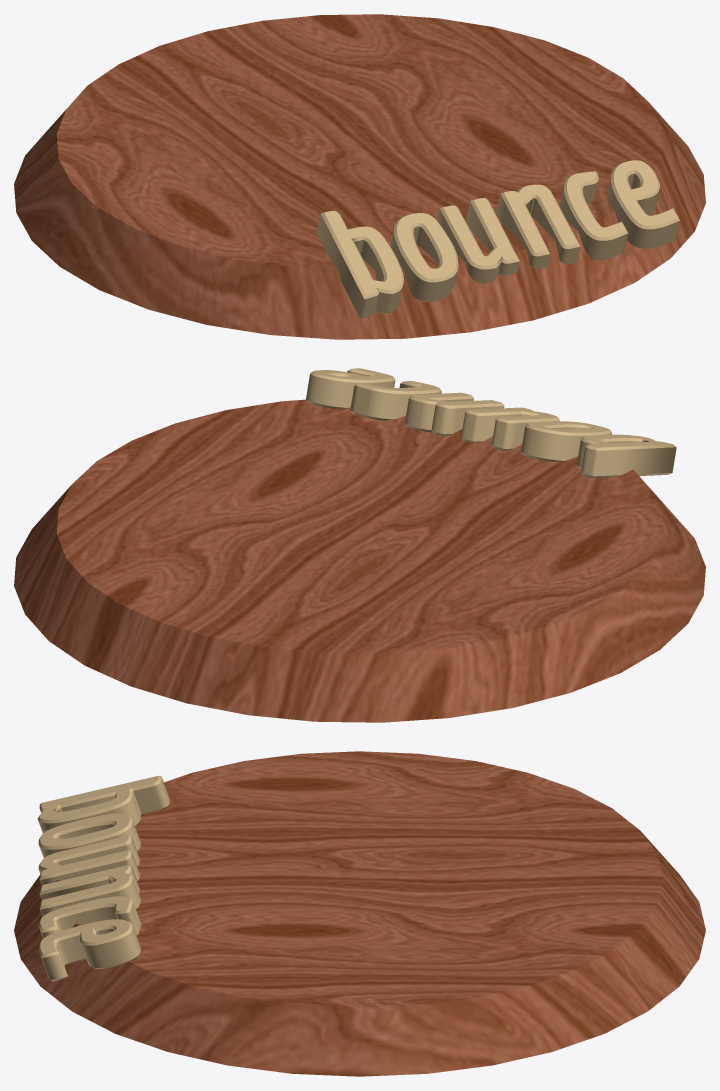
Rendered from Wand-Base-bounce.fbx.
The picture shows the model from 3 angles, top to bottom: view 1: azimuth 30°, elevation 25°; view 2: azimuth 150°, elevation 25°; view 3: azimuth 270°, elevation 25°; orthographic projection.
Parts seen in each view (by area): view 1: Cylinder; view 2: Cylinder; view 3: Cylinder.
Boxes of the visible parts, x1,y1,x2,y2 form: Cylinder: (14,14,705,339); Cylinder: (14,368,705,722); Cylinder: (14,751,705,1076).
Size of the model in its own units: 28.9 by 4.06 by 28.9.
Materials: 2 (1 with a texture image).
